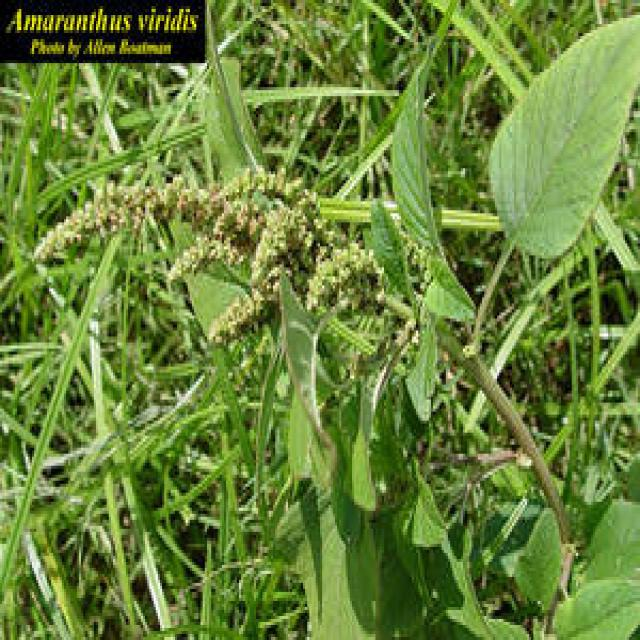Medicinal-Arive Dantu: (186, 178, 482, 442)
